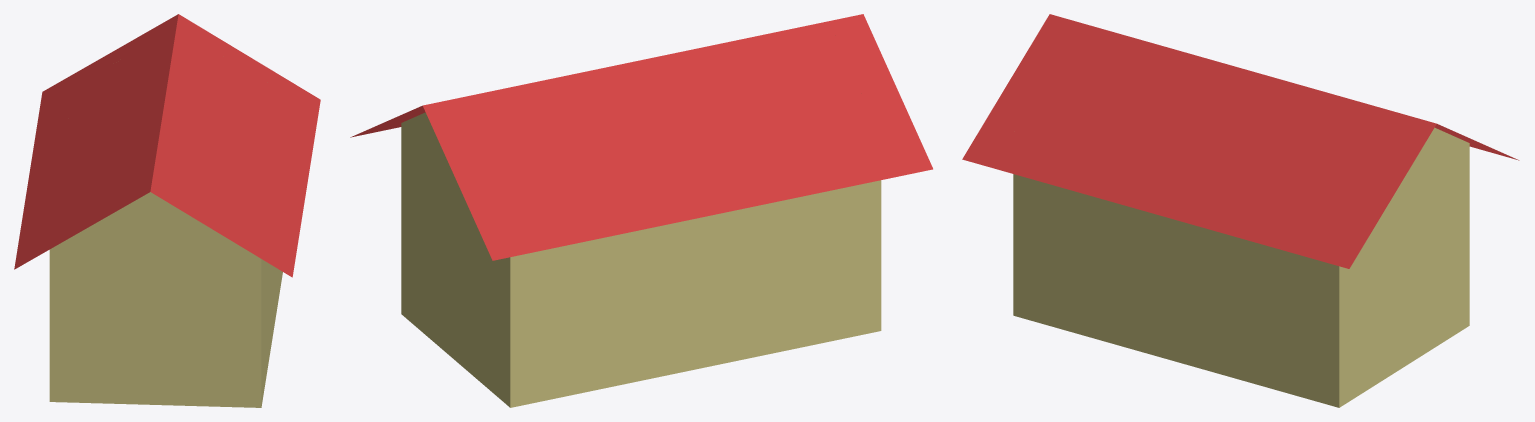
3 views of the same model, side by side, from view 1: azimuth 30°, elevation 25°; view 2: azimuth 150°, elevation 25°; view 3: azimuth 270°, elevation 25° (orthographic). The views are drawn at different scales.
Parts seen in each view (by area): view 1: group_5, group_3, group_4; view 2: group_5, group_3, group_4; view 3: group_5, group_3, group_4.
Part boxes in pixels (x1,y1,x2,y2): group_5: (49, 192, 282, 407); group_3: (14, 14, 284, 269); group_4: (17, 14, 320, 277); group_5: (401, 112, 881, 407); group_3: (350, 15, 932, 260); group_4: (423, 14, 875, 260); group_5: (1013, 127, 1469, 407); group_3: (1013, 14, 1519, 265); group_4: (962, 14, 1506, 268).
Bounding box in the file's own units: 27.95 × 30.3 × 15.
